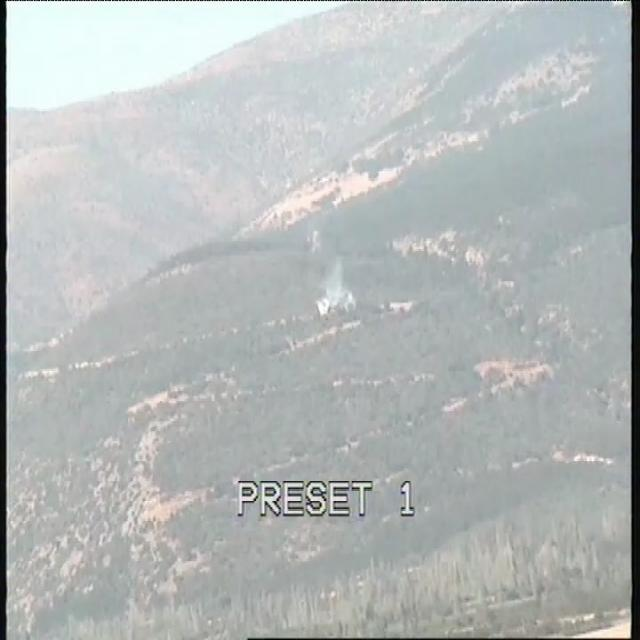smoke: (314, 258, 359, 322)
